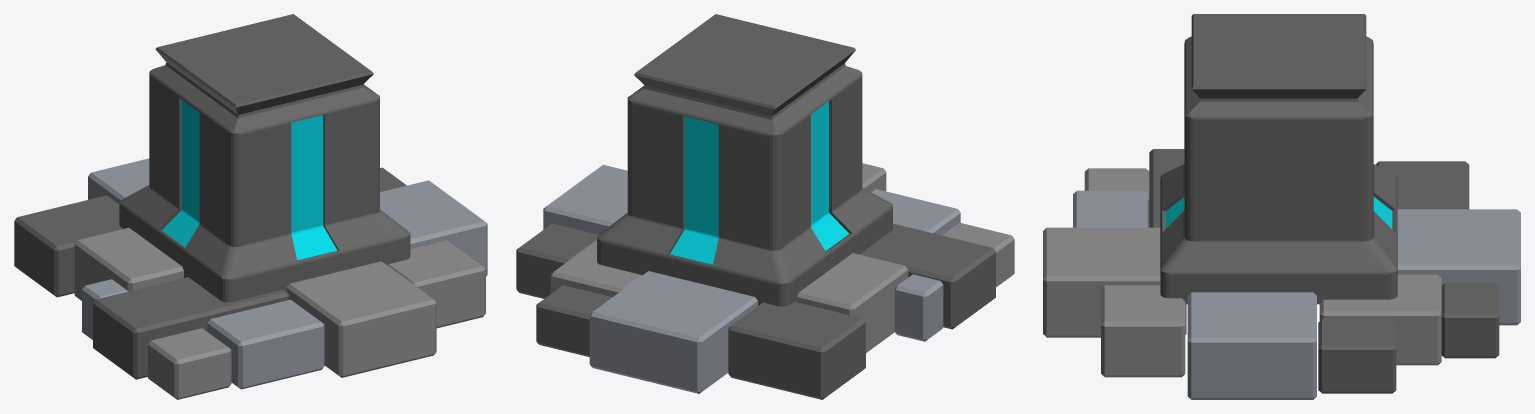
File: obelisk_bottom.fbx
3 views of the same model, side by side, from view 1: azimuth 30°, elevation 25°; view 2: azimuth 150°, elevation 25°; view 3: azimuth 270°, elevation 25° (orthographic). The views are drawn at different scales.
Parts seen in each view (by area): view 1: LP_Obelisk_Buttom, Cube.006, Cube.003, Cube.008, Cube.004, Cube.005, Cube.007, Cube.002, Cube.011, Cube.001, Cube.012; view 2: LP_Obelisk_Buttom, Cube.001, Cube.004, Cube.003, Cube.002, Cube.005, Cube.009, Cube.010, Cube.012, Cube, Cube.008, Cube.011 (+1 smaller); view 3: LP_Obelisk_Buttom, Cube.005, Cube.006, Cube.001, Cube.007, Cube.010, Cube, Cube.009, Cube.004, Cube.008, Cube.011, Cube.003.
Part boxes in pixels (bbox=[...]): LP_Obelisk_Buttom: bbox=[119, 14, 410, 302]; Cube.006: bbox=[286, 261, 436, 377]; Cube.003: bbox=[93, 277, 289, 379]; Cube.008: bbox=[207, 299, 324, 389]; Cube.004: bbox=[14, 195, 122, 297]; Cube.005: bbox=[380, 180, 487, 276]; Cube.007: bbox=[388, 240, 485, 328]; Cube.002: bbox=[74, 227, 183, 300]; Cube.011: bbox=[148, 328, 231, 399]; Cube.001: bbox=[88, 158, 149, 203]; Cube.012: bbox=[82, 279, 128, 339]; LP_Obelisk_Buttom: bbox=[597, 14, 892, 306]; Cube.001: bbox=[589, 271, 757, 393]; Cube.004: bbox=[728, 301, 865, 399]; Cube.003: bbox=[859, 223, 995, 329]; Cube.002: bbox=[797, 253, 908, 352]; Cube.005: bbox=[543, 164, 627, 234]; Cube.009: bbox=[536, 285, 611, 356]; Cube.010: bbox=[516, 223, 598, 298]; Cube.012: bbox=[894, 274, 943, 341]; Cube: bbox=[550, 240, 641, 297]; Cube.008: bbox=[871, 189, 960, 235]; Cube.011: bbox=[942, 222, 1014, 287]; LP_Obelisk_Buttom: bbox=[1160, 14, 1397, 304]; Cube.005: bbox=[1187, 292, 1316, 399]; Cube.006: bbox=[1043, 227, 1186, 337]; Cube.001: bbox=[1397, 209, 1520, 325]; Cube.007: bbox=[1101, 285, 1185, 377]; Cube.010: bbox=[1318, 319, 1396, 393]; Cube: bbox=[1319, 274, 1441, 365]; Cube.009: bbox=[1441, 283, 1499, 358]; Cube.004: bbox=[1375, 161, 1469, 209]; Cube.008: bbox=[1073, 190, 1147, 227]; Cube.011: bbox=[1084, 168, 1149, 227]; Cube.003: bbox=[1149, 149, 1184, 227].
Size of the model in its own units: 385 by 231 by 393.
